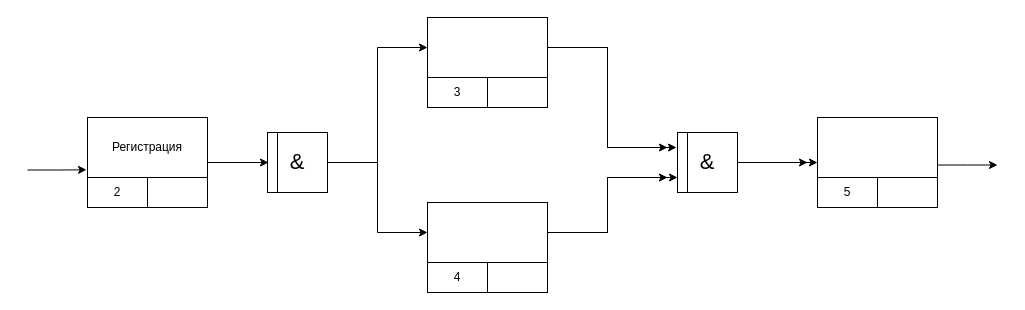
Some shapes in this 1025 by 310 pixel diagram are drawn without their labels. Here are the shapes that lost their labels. From the top down, the centre of each, then its label:
point 487,47: Создание группы словарей
point 877,147: Получение упражнений
point 487,232: Создание словаря
